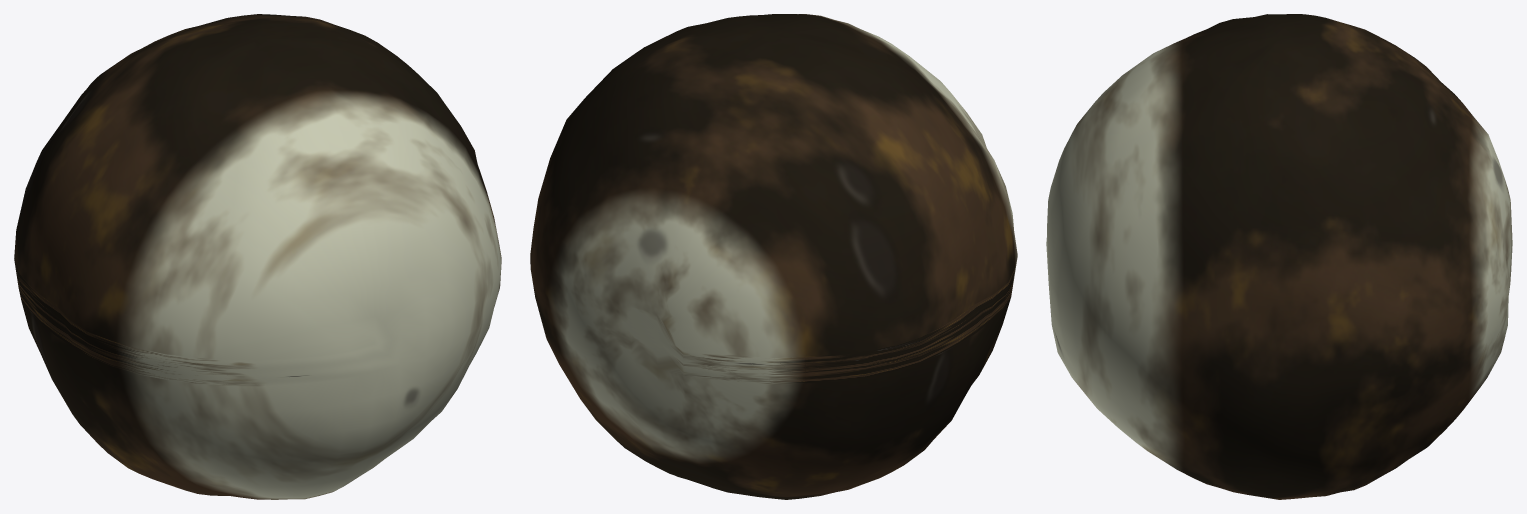
File: planet_04_b.glb
The picture shows the model from 3 angles, left to right: view 1: azimuth 30°, elevation 25°; view 2: azimuth 150°, elevation 25°; view 3: azimuth 270°, elevation 25°; orthographic projection.
Parts seen in each view (by area): view 1: Body; view 2: Body; view 3: Body.
Boxes of the visible parts, x1=… form: Body: x1=14, y1=14, x2=501, y2=499; Body: x1=530, y1=14, x2=1017, y2=499; Body: x1=1046, y1=14, x2=1512, y2=499.
Bounding box in the file's own units: 1.9 × 1.96 × 1.89.
Materials: 1 (1 with a texture image).
